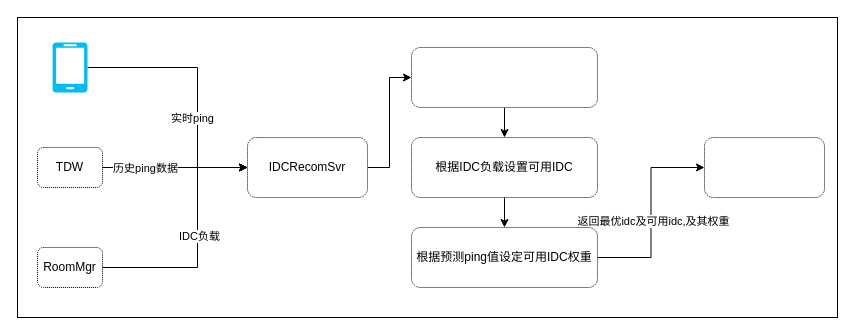
This 855x335 diagram has some shape labels left out. Here are the shapes that lost their labels. From the top down, the box of each, then its label:
(410, 46, 598, 108): v1.实时ping与历史ping加权 v2.机器学习预测
(704, 136, 824, 198): MatchMgr
